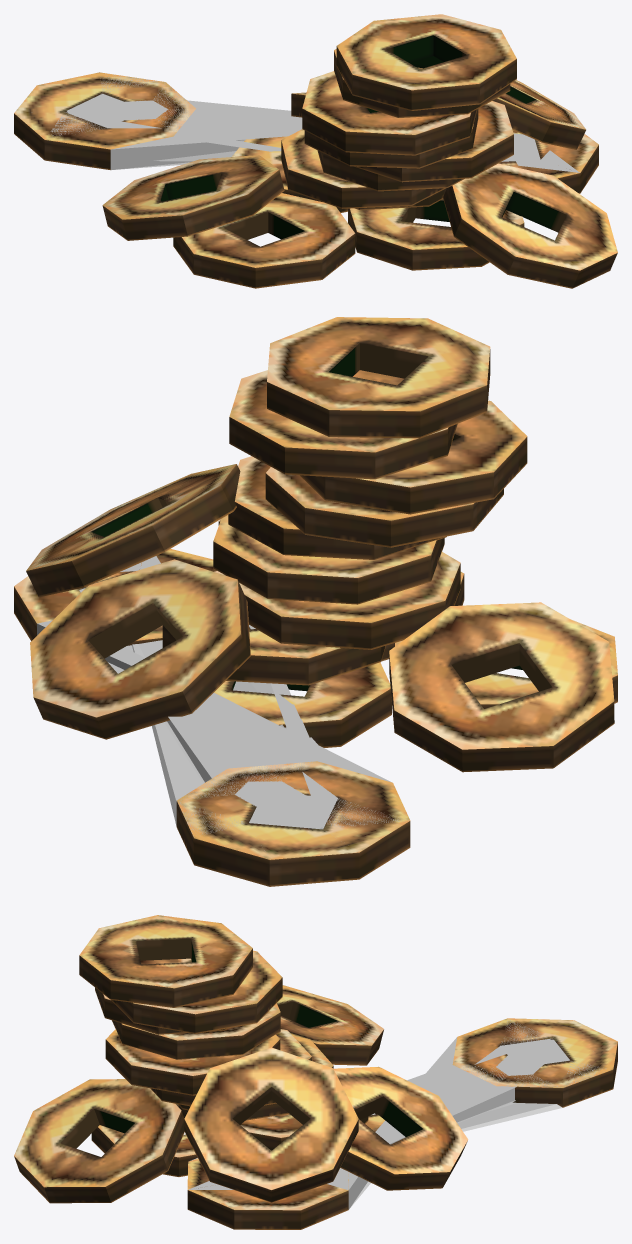
File: stst56.dae
3 renders of one model, top to bottom at view 1: azimuth 30°, elevation 25°; view 2: azimuth 150°, elevation 25°; view 3: azimuth 270°, elevation 25°, orthographic. The views are drawn at different scales.
Visible parts, largest first — view 1: money, sack; view 2: money, sack; view 3: money, sack.
Part boxes in pixels (x1,y1,x2,y2): money: (14, 14, 617, 288); sack: (50, 73, 579, 172); money: (14, 317, 617, 886); sack: (37, 556, 408, 854); money: (14, 915, 617, 1229); sack: (188, 1020, 606, 1209).
Bounding box in the file's own units: 0.2167 × 0.2633 × 0.0936.
2 materials, 1 textured.
